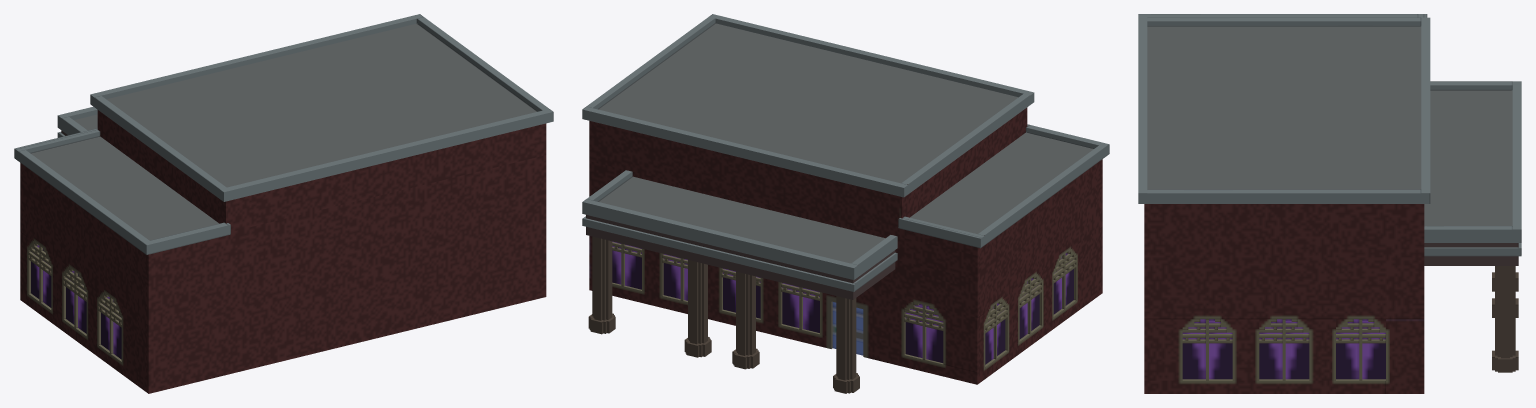
The model's file is kasyno_bud.dae.
3 views of the same model, side by side, from view 1: azimuth 30°, elevation 25°; view 2: azimuth 150°, elevation 25°; view 3: azimuth 270°, elevation 25° (orthographic). The views are drawn at different scales.
Parts seen in each view (by area): view 1: Content; view 2: Content; view 3: Content.
Part boxes in pixels (x1,y1,x2,y2): Content: (14,14,553,393); Content: (582,14,1109,393); Content: (1138,14,1521,393).
Size of the model in its own units: 174 by 76 by 130.
1 material, 1 textured.
